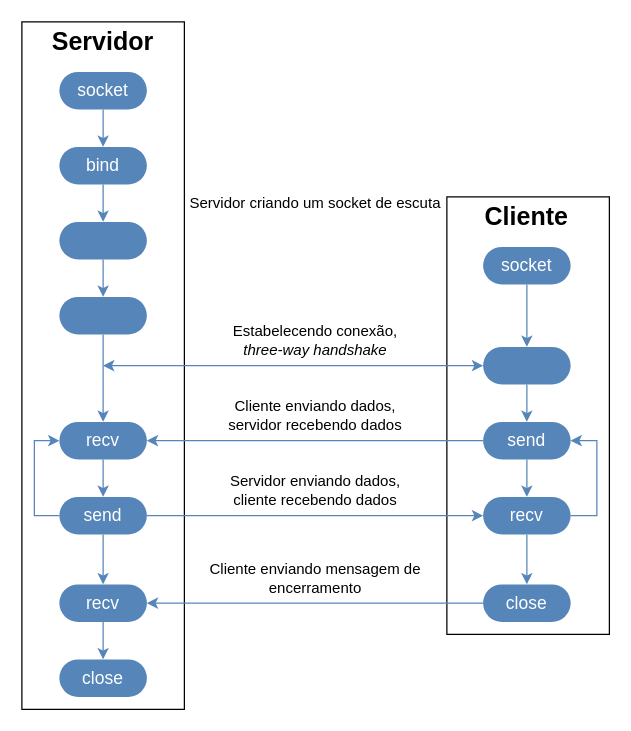
This 631x731 diagram has some shape labels left out. The shapes that lost their labels are listed below. From the top down, each one's centre as x and y in pixels, then its label:
At pixel 102 240: "listen".
At pixel 102 315: "accept".
At pixel 526 365: "connect".
